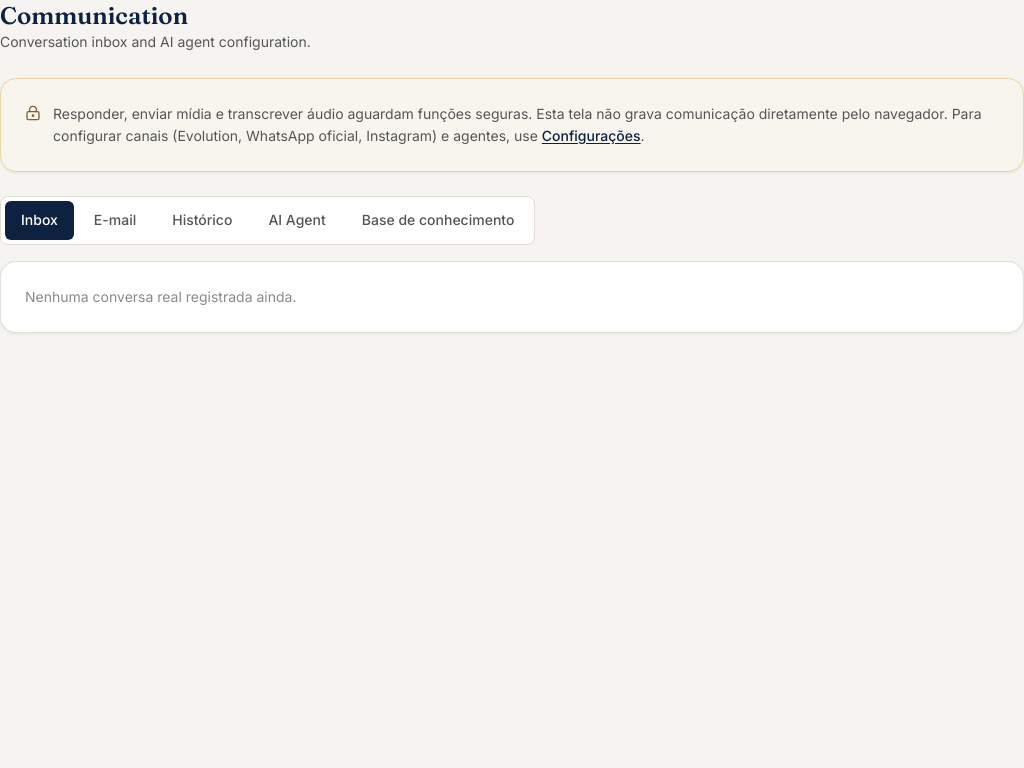
ComunicacaoRealPage — caminho para configurar o agente › aba Agente IA com agente: mostra o estado e o atalho para configurar
The width and height of the screenshot is (1024, 768).
Click the tab "AI Agent": (297, 221) [252, 201, 342, 240]
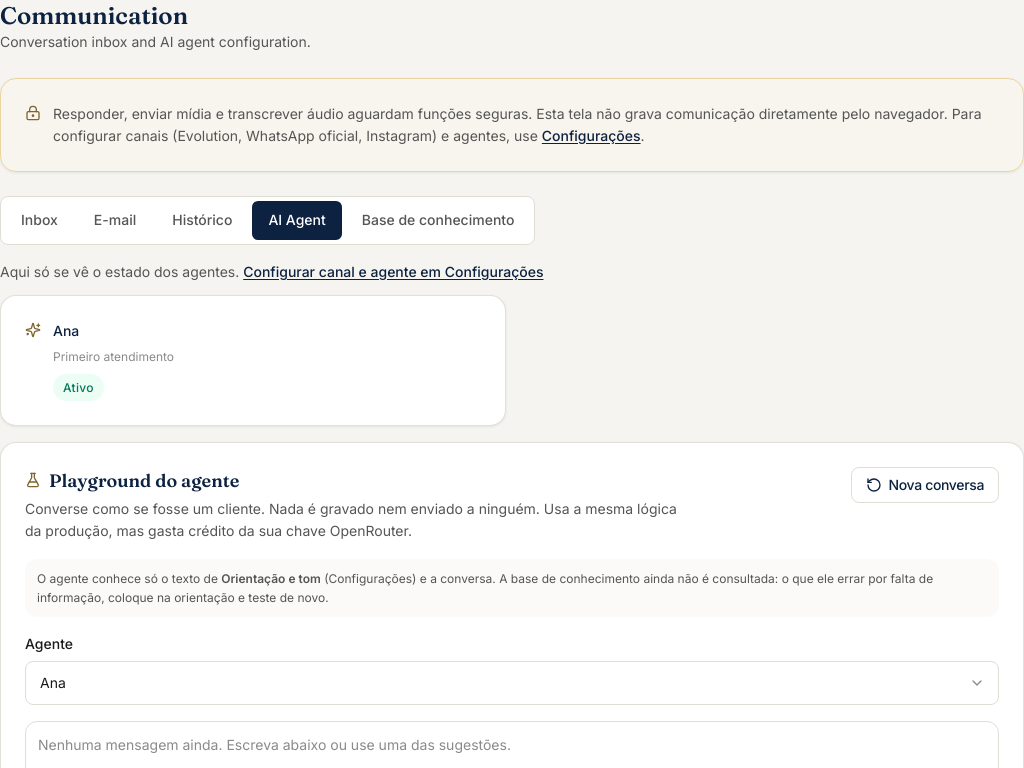
Check: the text "Ana" is shown, box [53, 322, 79, 339]
